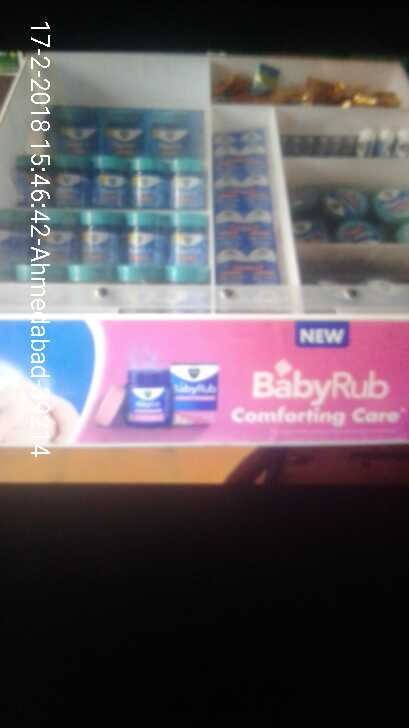vicks: (211, 122, 274, 280), (290, 182, 408, 245), (92, 147, 127, 213), (128, 153, 166, 212), (121, 213, 162, 263), (171, 158, 206, 215), (168, 214, 205, 267), (82, 213, 120, 262), (52, 156, 86, 210)
